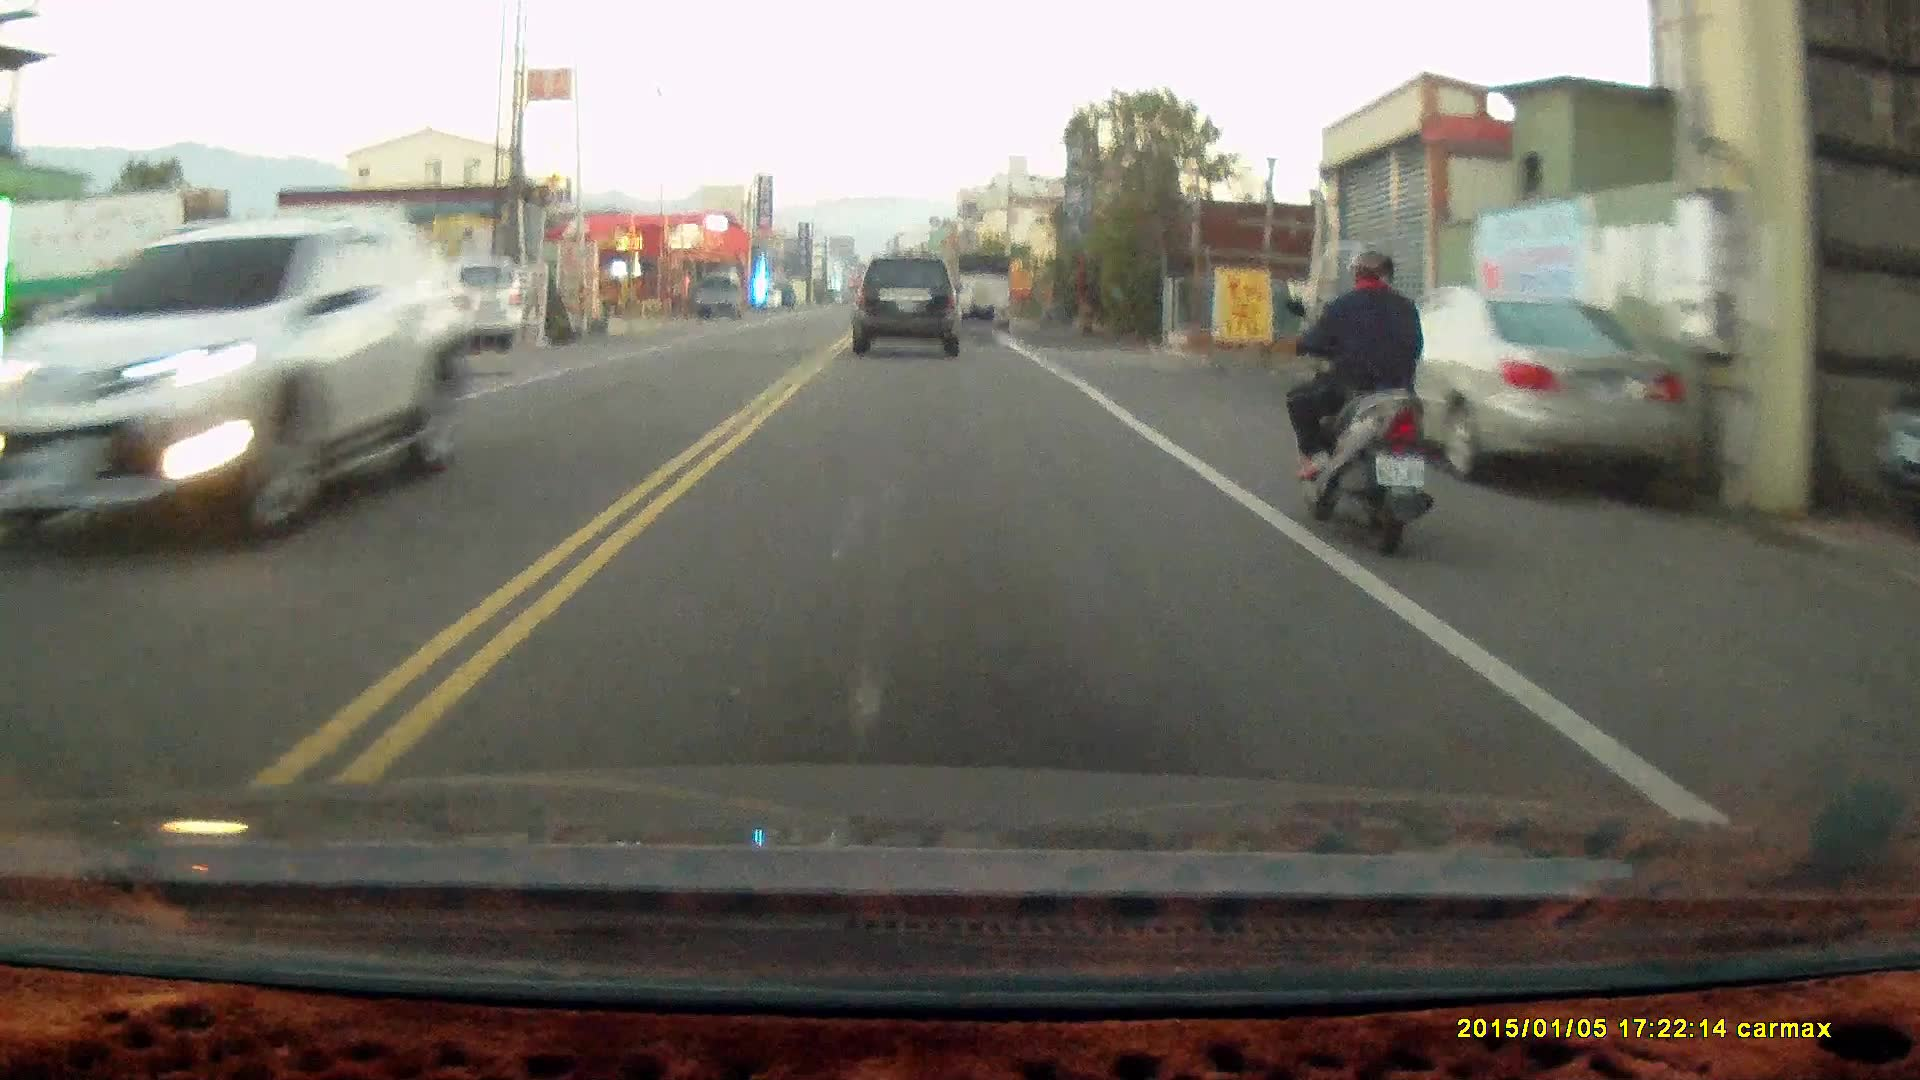rider: (1280, 251, 1431, 563)
vehicle: (4, 217, 470, 559), (1340, 286, 1715, 505), (392, 262, 525, 364), (852, 255, 964, 358), (954, 252, 1015, 330)
